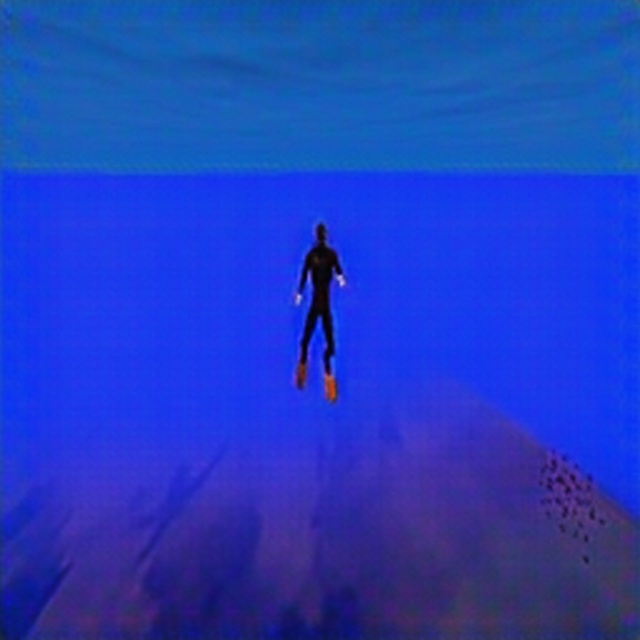diver: (291, 218, 347, 401)
